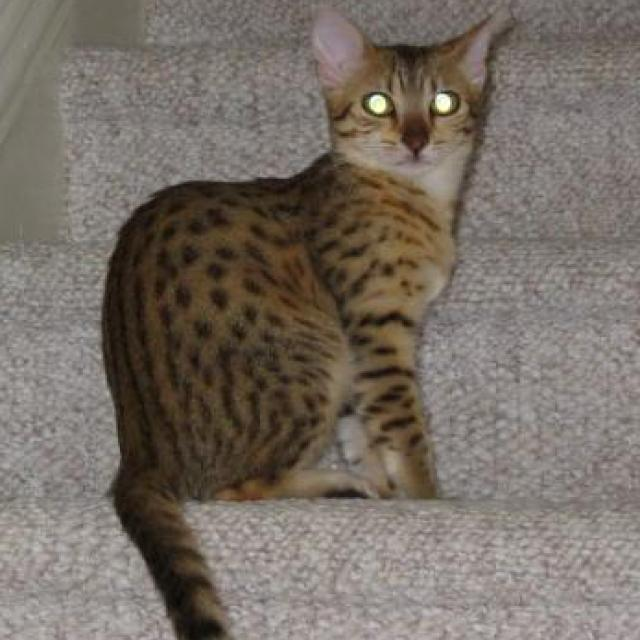Egyptian Mau: (94, 7, 509, 640)
